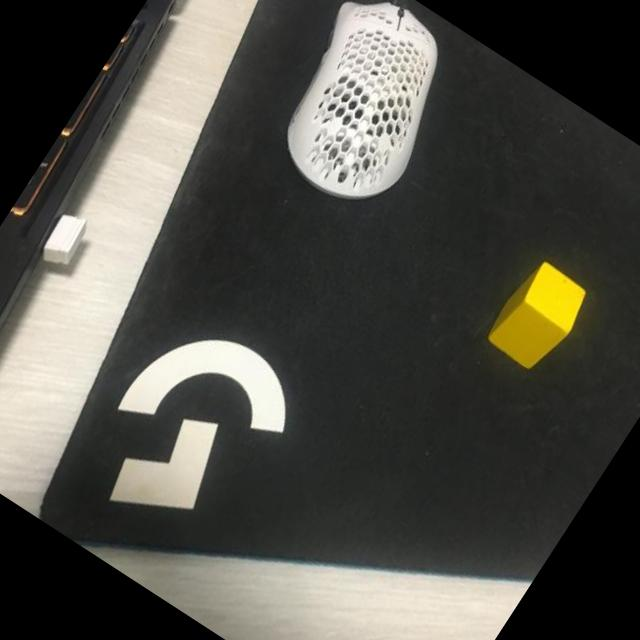yellow: (482, 257, 594, 378)
